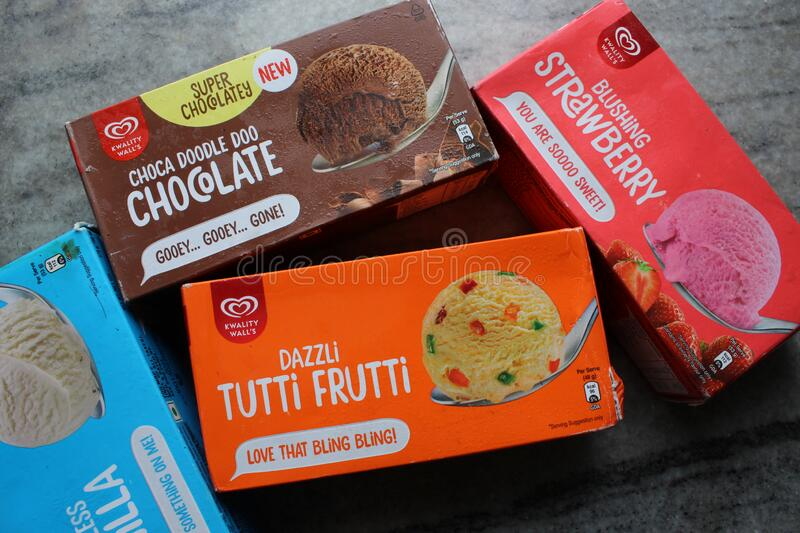Kwality_Walls: (592, 17, 654, 74), (95, 108, 156, 164), (215, 288, 265, 346)
